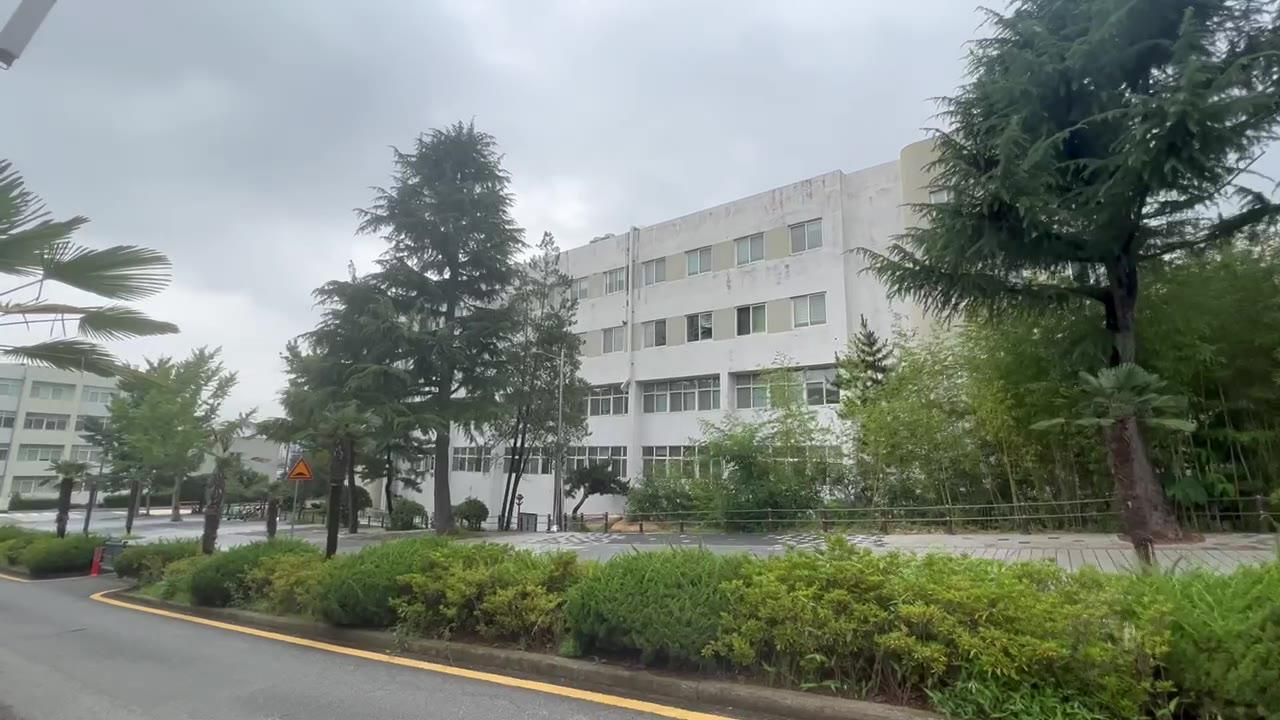building: (591, 191, 832, 436)
